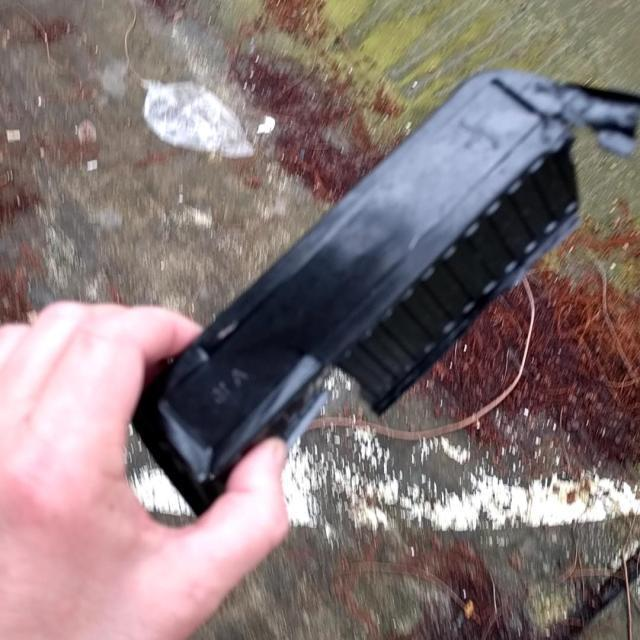Plastic: (128, 63, 640, 520)
